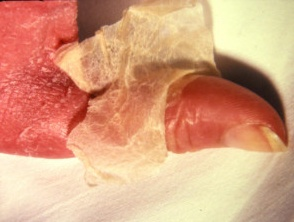SJS-TEN: (0, 0, 225, 199)
